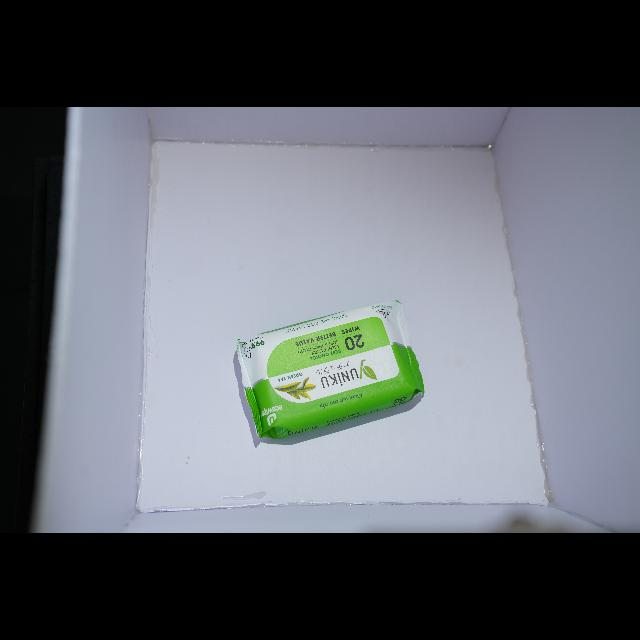khan_giay: (238, 301, 424, 439)
